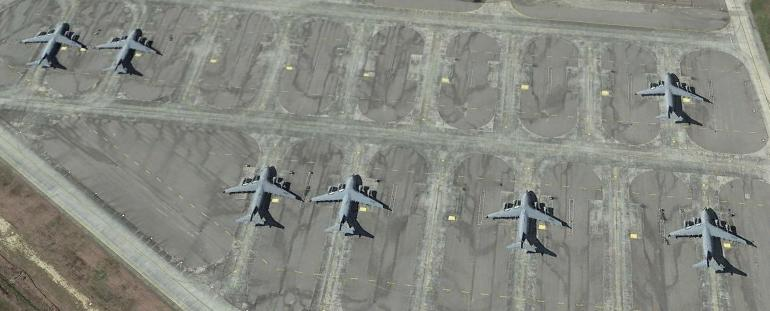C-17: (664, 204, 749, 273), (483, 186, 563, 258), (224, 160, 301, 230), (313, 168, 384, 237), (638, 70, 711, 128), (96, 21, 156, 79), (22, 19, 85, 73)
